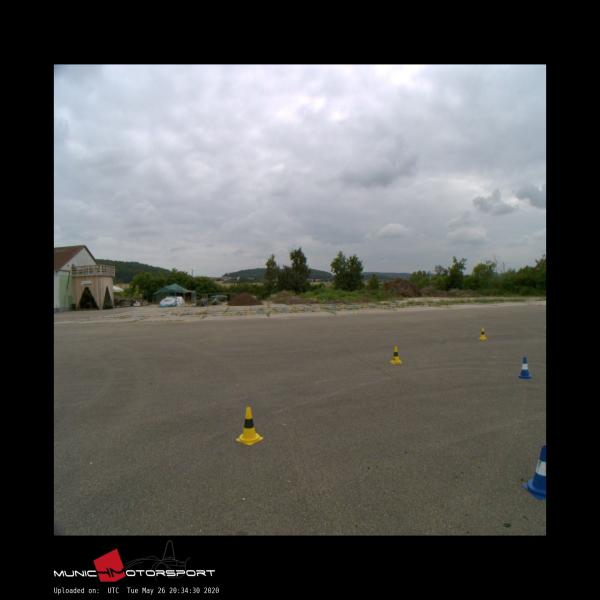blue_cone: (522, 446, 546, 500), (518, 357, 532, 378)
yellow_cone: (235, 407, 262, 444), (390, 346, 402, 364), (478, 327, 487, 340)
